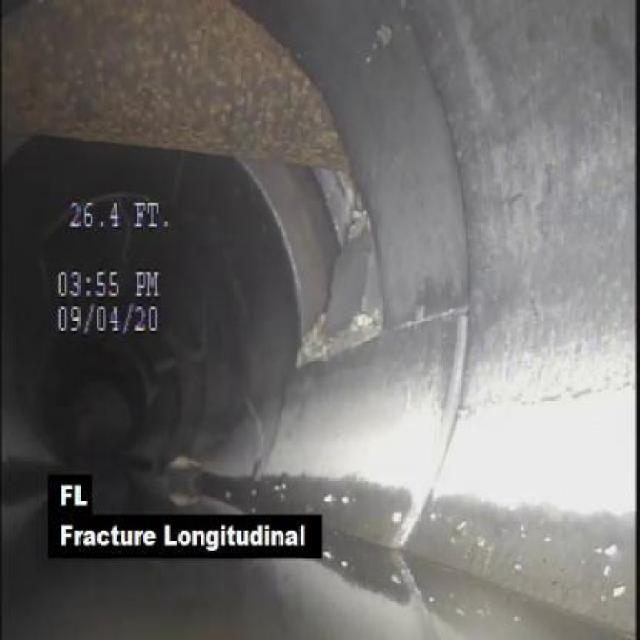Crack: (457, 371, 634, 426)
Utility intrusion: (1, 2, 357, 175)
